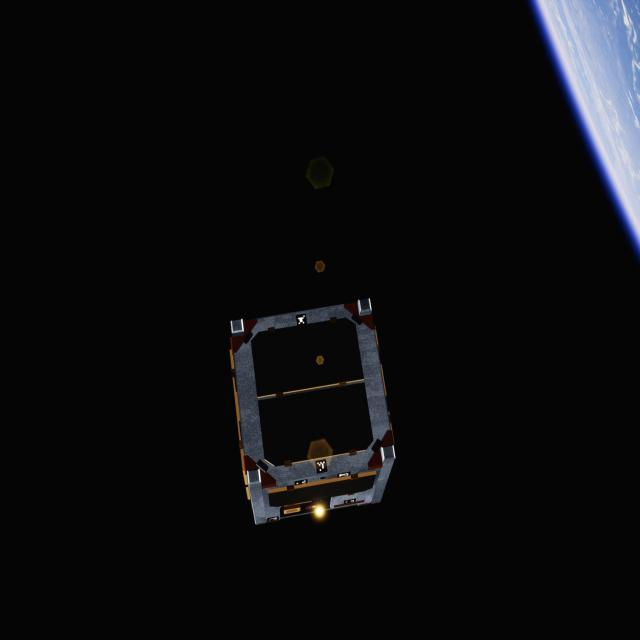medium_debris: (225, 286, 414, 539)
